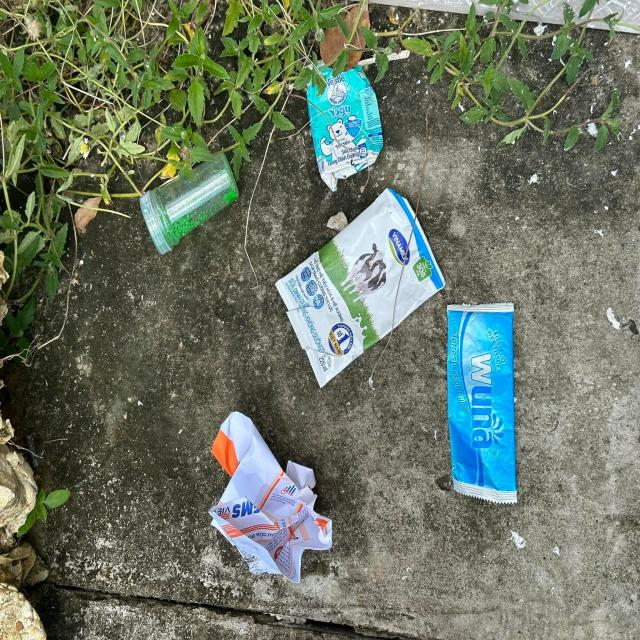milk box: (307, 64, 384, 192)
packet: (275, 187, 447, 389), (447, 302, 518, 506)
paper: (207, 410, 334, 584)
